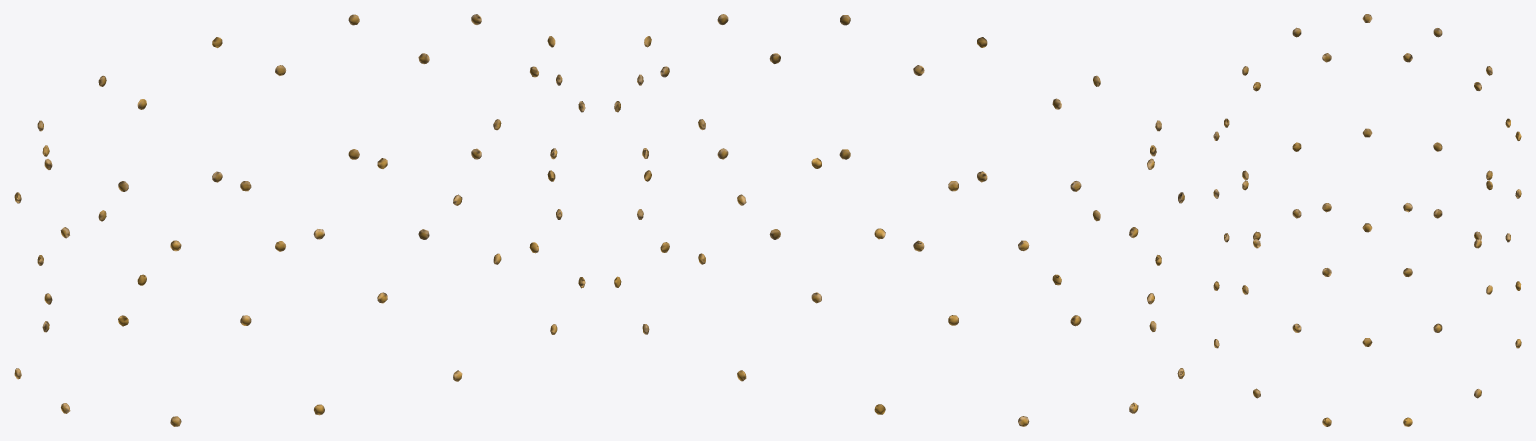
Rendered from Atalanta_Cintura_Tachas.fbx.
3 views of the same model, side by side, from view 1: azimuth 30°, elevation 25°; view 2: azimuth 150°, elevation 25°; view 3: azimuth 270°, elevation 25° (orthographic). The views are drawn at different scales.
Visible parts, largest first — view 1: Atalanta_Cintura_Tachas; view 2: Atalanta_Cintura_Tachas; view 3: Atalanta_Cintura_Tachas.
Part boxes in pixels (x1,y1,x2,y2): Atalanta_Cintura_Tachas: (14, 14, 585, 426); Atalanta_Cintura_Tachas: (614, 14, 1184, 426); Atalanta_Cintura_Tachas: (1213, 14, 1521, 426).
Bounding box in the file's own units: 2.38 × 1.02 × 1.43.
